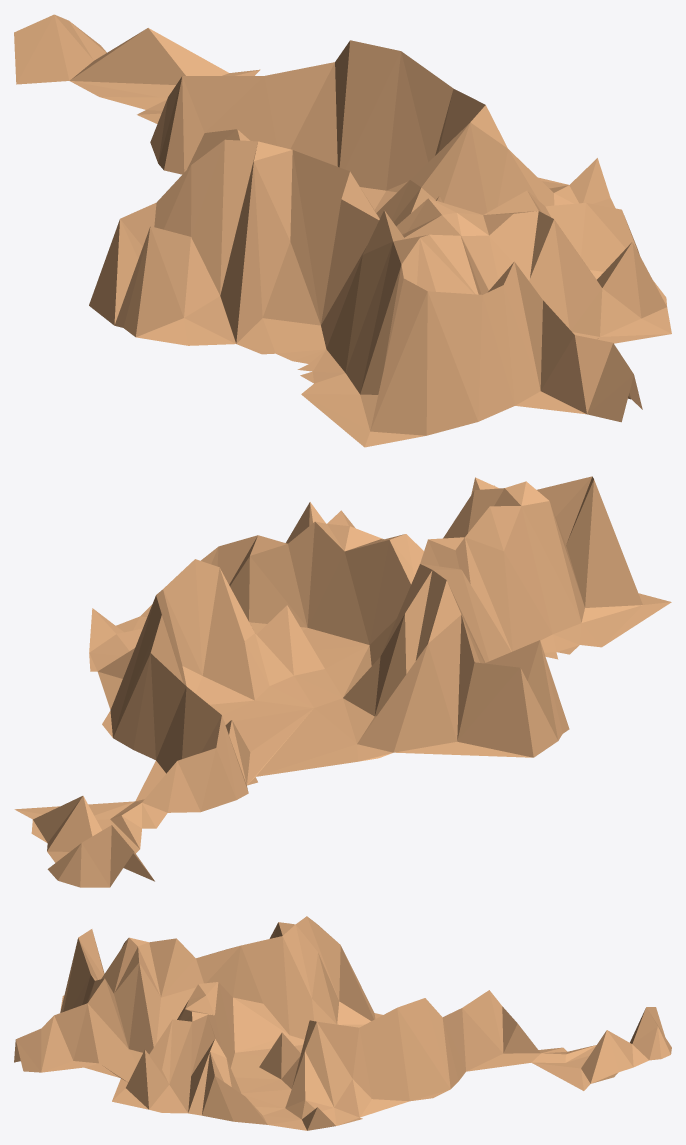
File: MONTAIN_01.fbx
3 renders of one model, top to bottom at view 1: azimuth 30°, elevation 25°; view 2: azimuth 150°, elevation 25°; view 3: azimuth 270°, elevation 25°, orthographic. The views are drawn at different scales.
Parts seen in each view (by area): view 1: Plane; view 2: Plane; view 3: Plane.
Boxes of the visible parts, box(x1,y1,x2,y2) form: Plane: box(14, 14, 671, 447); Plane: box(14, 476, 671, 887); Plane: box(14, 916, 671, 1130).
Size of the model in its own units: 2467 by 728 by 4441.
